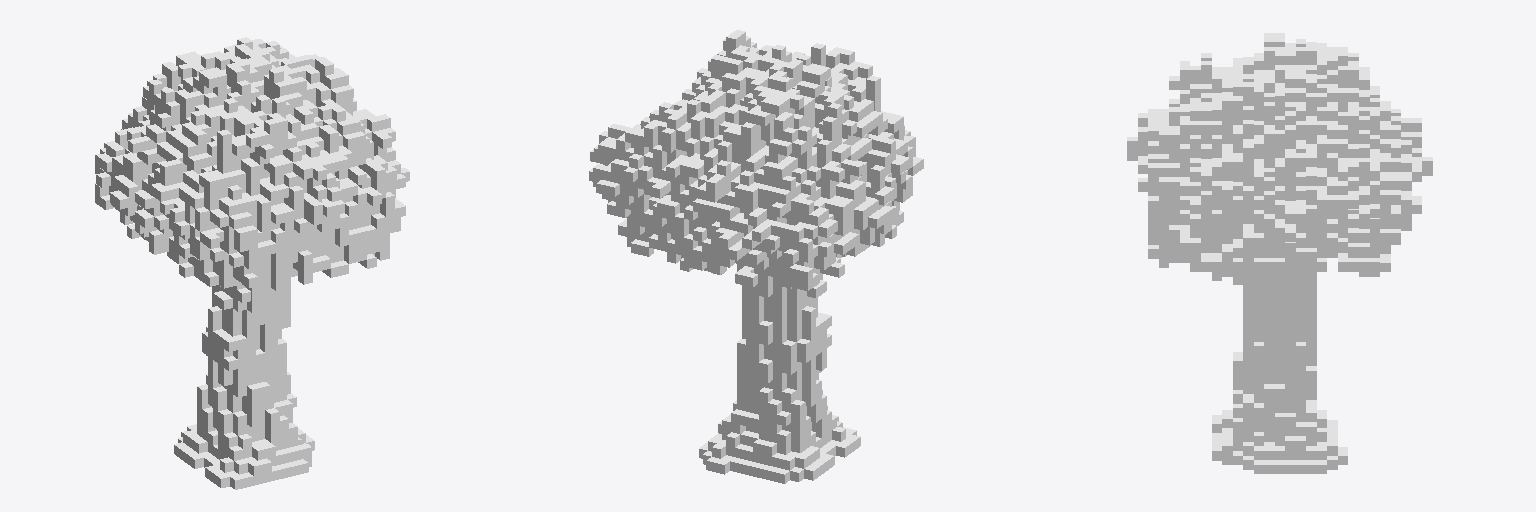
File: AppleTree.obj
The picture shows the model from 3 angles: view 1: azimuth 30°, elevation 25°; view 2: azimuth 150°, elevation 25°; view 3: azimuth 270°, elevation 25°; orthographic projection.
Visible parts, largest first — view 1: object 1; view 2: object 1; view 3: object 1.
Boxes of the visible parts, x1=… form: object 1: x1=95, y1=37, x2=409, y2=489; object 1: x1=589, y1=30, x2=923, y2=483; object 1: x1=1127, y1=33, x2=1432, y2=473.
Size of the model in its own units: 2.8 by 4.1 by 2.9.